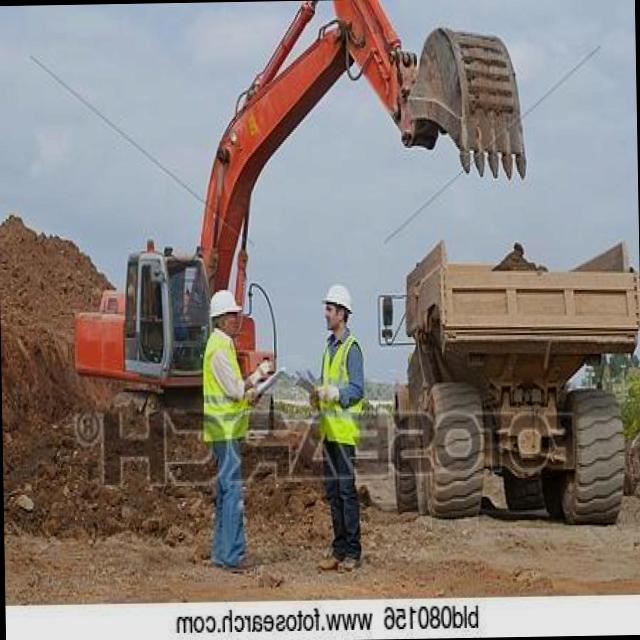helmet: (208, 285, 244, 332), (320, 281, 352, 324)
no-goggles: (322, 300, 342, 320)
vest: (202, 327, 252, 451), (310, 334, 360, 444)
